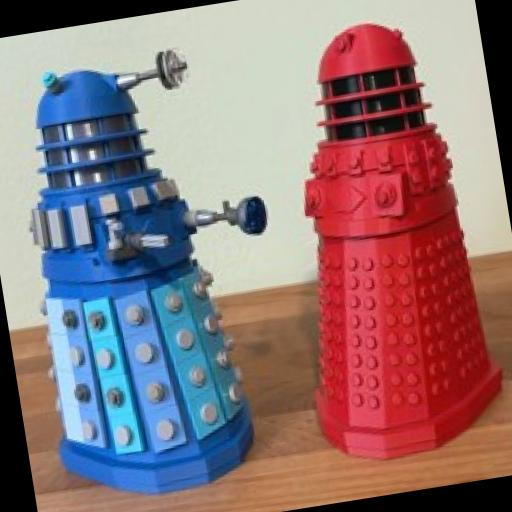dalek: (0, 30, 313, 503), (238, 12, 511, 474)
